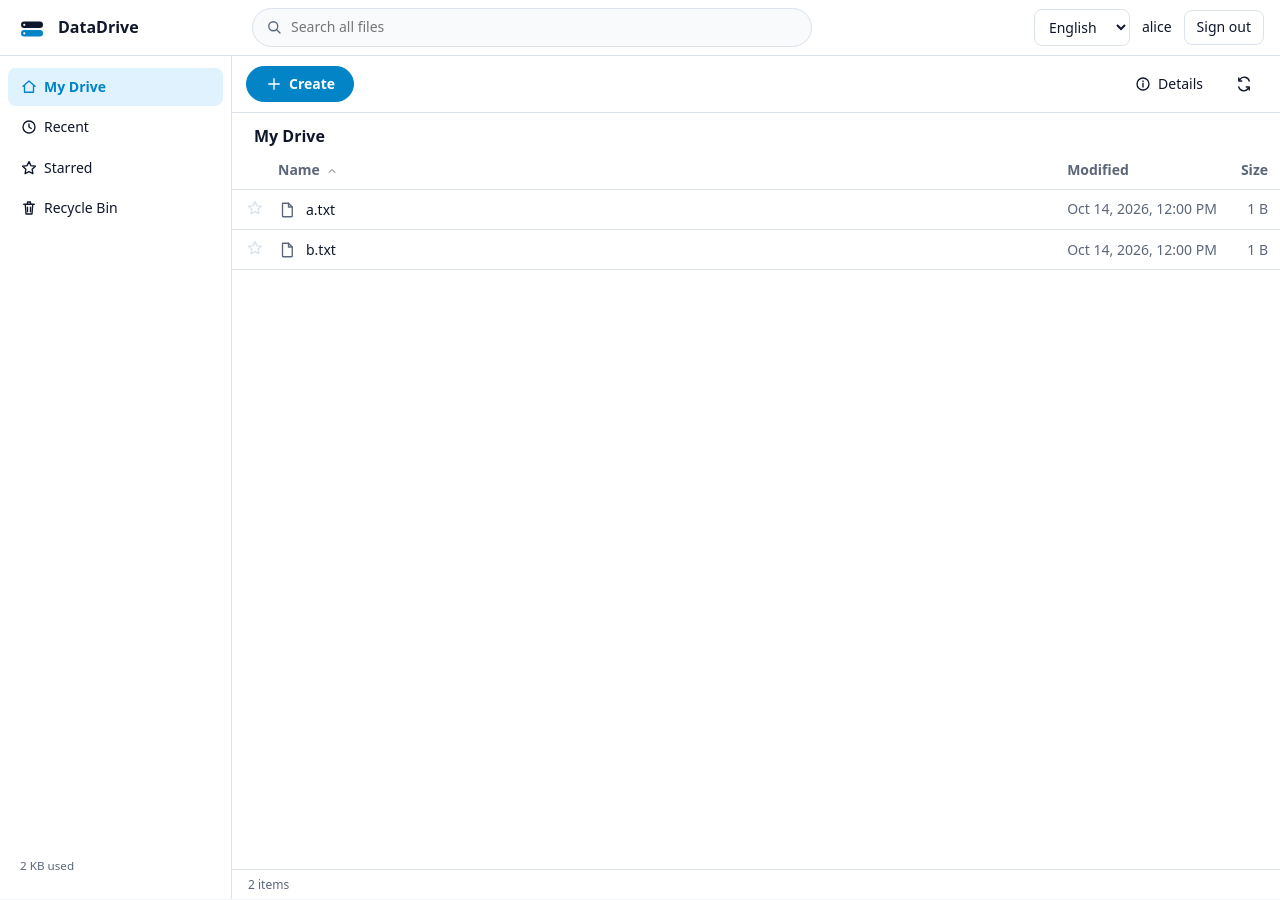
Test: browsing › shows the number of items and the selection in the status bar
Expected: the element named "Actions" is shown, [232,56,1279,113]
Expected: the text "2 items" is shown, [248,876,289,893]
Step 1. Click the row "a.txt Oct 14, 2026, 12:00 PM 1 B" → (756, 209), box [232,189,1279,230]
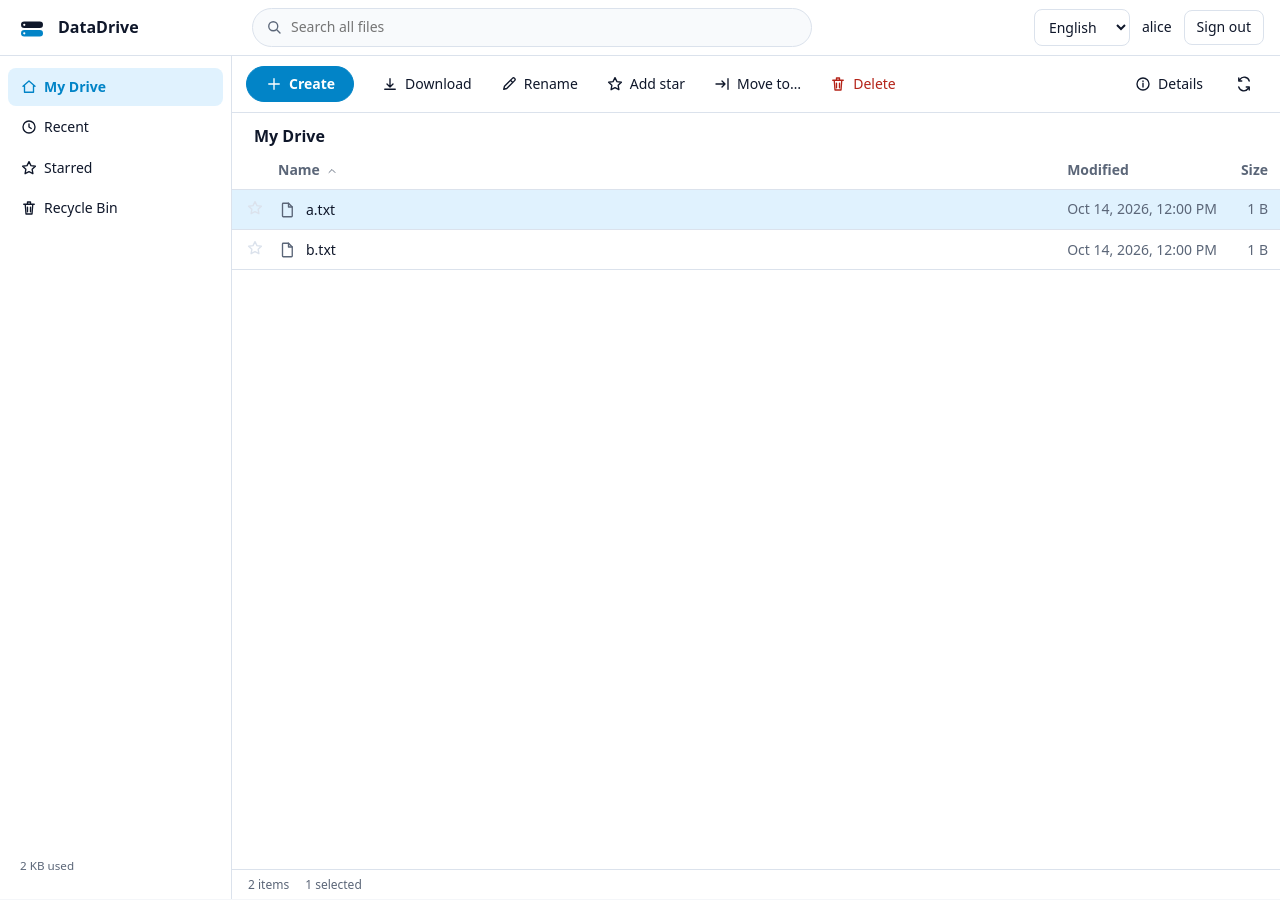
Result: the text "1 selected" is shown at [305,876,362,893]
